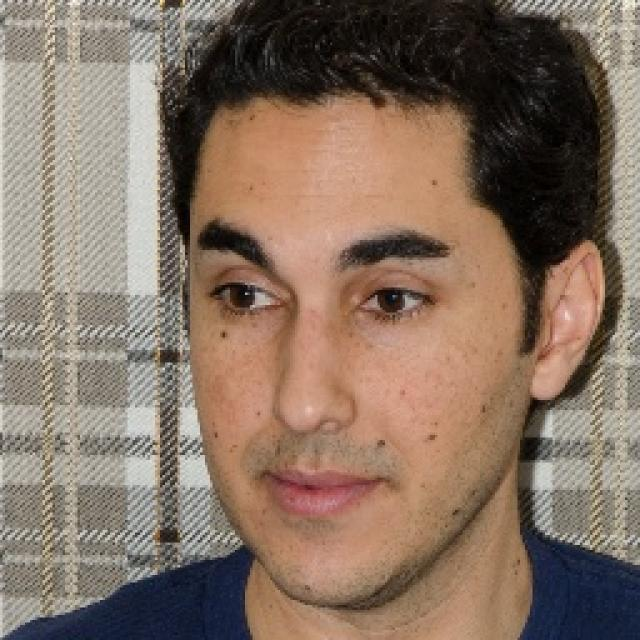earlobe: (531, 239, 608, 403)
